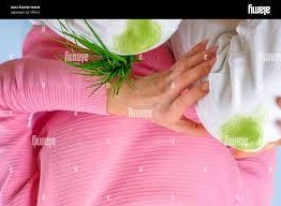earth: (117, 19, 163, 53), (222, 117, 263, 146)
